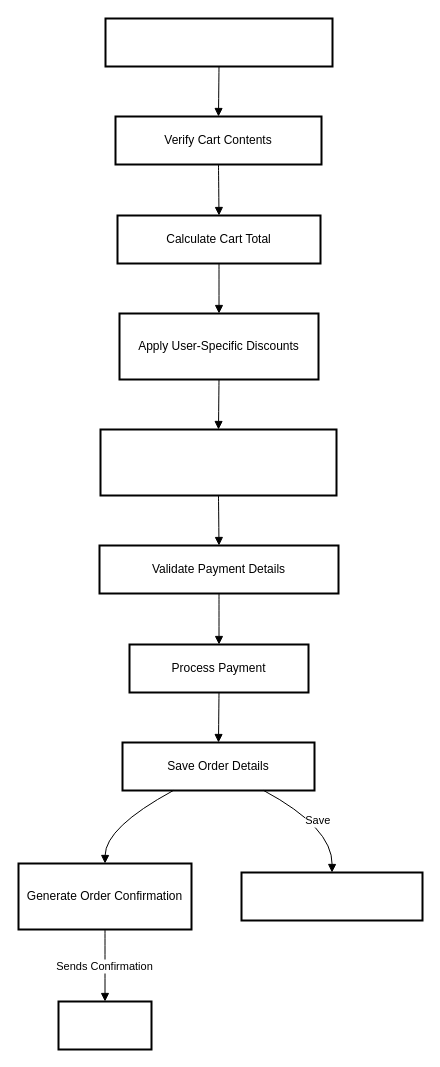
Image size: 440x1067. Some labels were removed from this diagram. The centre of each missing label's shape, as x and y in pixels:
"Order Data Store" belongs at (331,896).
"Process Payment Method Selection" belongs at (218,462).
"User" belongs at (104,1025).
"User Initiates Checkout" belongs at (218,42).
